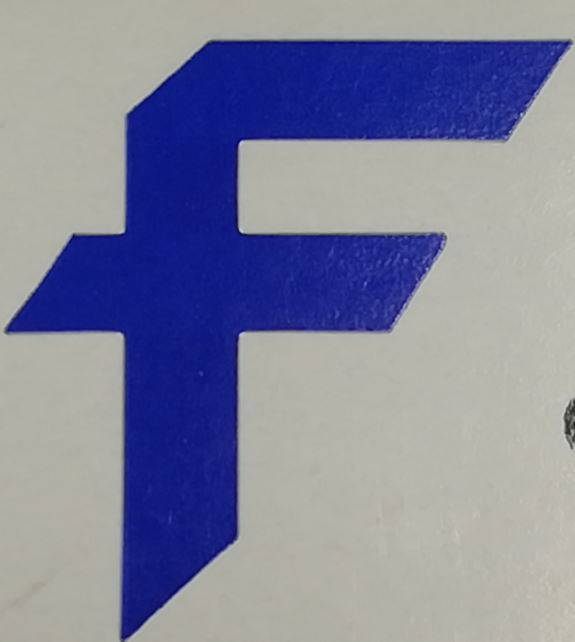Fisher: (6, 36, 572, 641)
